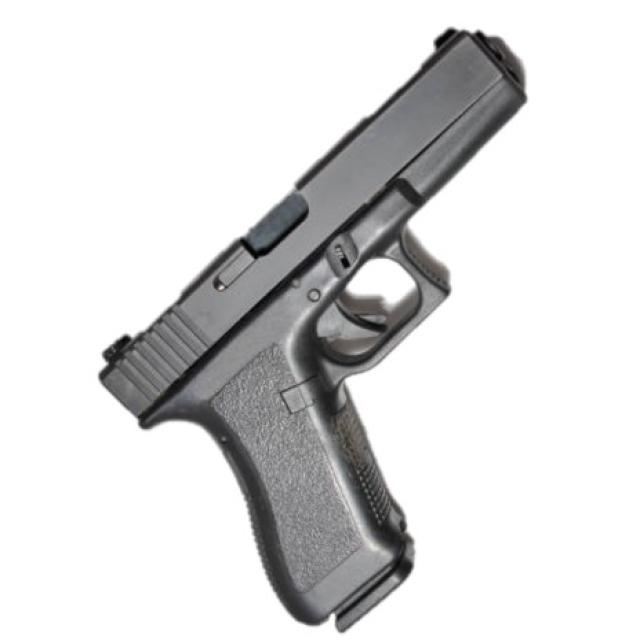pistol: (91, 17, 532, 635)
